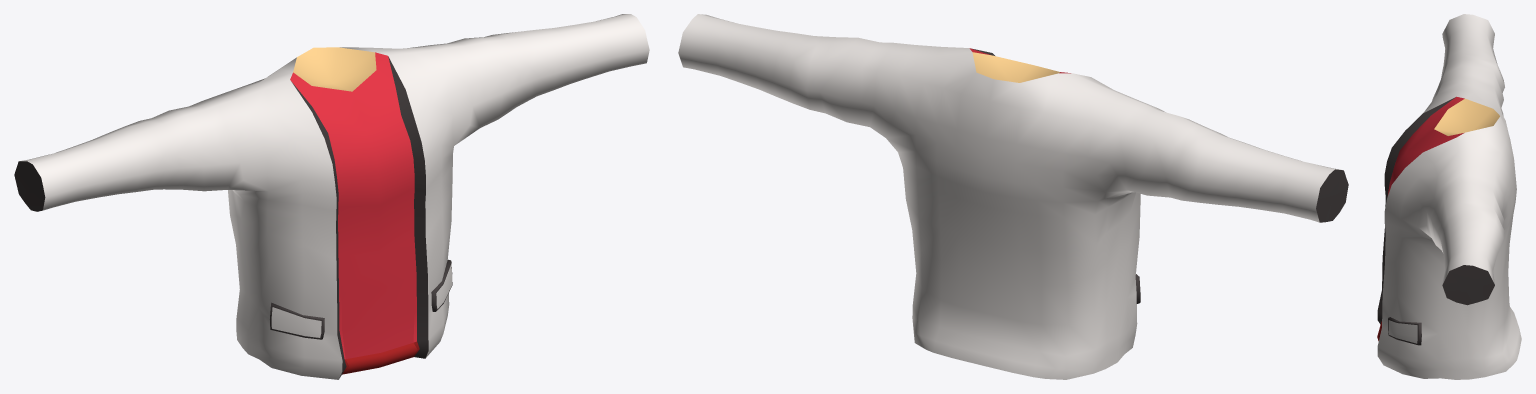
The model's file is Torso_14_01.fbx.
3 renders of one model, left to right at view 1: azimuth 30°, elevation 25°; view 2: azimuth 150°, elevation 25°; view 3: azimuth 270°, elevation 25°, orthographic. The views are drawn at different scales.
Parts seen in each view (by area): view 1: Torso_14_01; view 2: Torso_14_01; view 3: Torso_14_01.
Boxes of the visible parts, x1,y1,x2,y2 form: Torso_14_01: (14, 14, 649, 379); Torso_14_01: (678, 14, 1348, 379); Torso_14_01: (1377, 14, 1521, 379).
Size of the model in its own units: 118 by 50.73 by 28.69.
